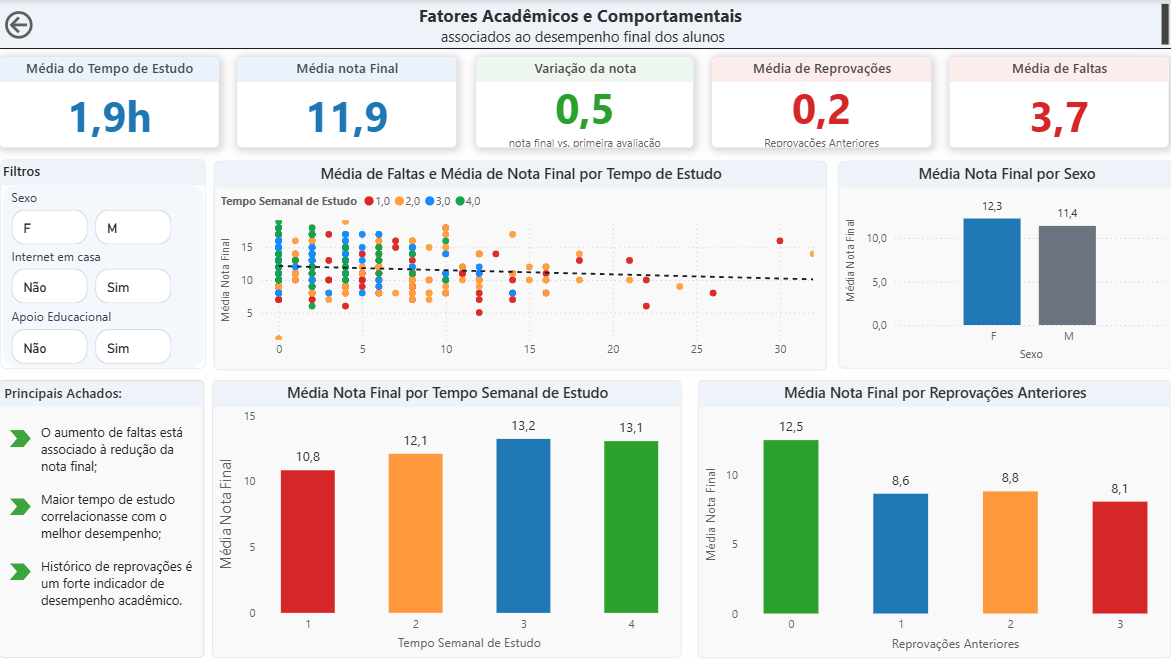

The page's visual inventory and layout, read from the dashboard file:
{"tool":"powerbi","page":{"name":"Fatores Acadêmicos e Comportamentais","canvas":[1280,720],"ordinal":1},"visuals":[{"type":"textbox","box":[0,0,1279.3,55],"z":0},{"type":"scatterChart","title":"Média de Faltas e Média de Nota Final por Tempo de Estudo","fields":{"X":["educacao_analise.Média de Faltas"],"Y":["educacao_analise.Média Nota Final"],"Series":["educacao_analise.Tempo Semanal de Estudo"],"Category":["educacao_analise.Índice"]},"box":[234.4,176.2,668.1,228],"z":0,"group":"g1"},{"type":"actionButton","box":[1.7,8.3,100,40],"z":1000},{"type":"shape","title":"Filtros","box":[1.7,174.8,223.3,228.3],"z":1000,"group":"g4"},{"type":"shape","box":[10.8,470,23.3,18.3],"z":2000},{"type":"card","title":"Média nota Final","fields":{"Values":["educacao_analise.Média Nota Final"]},"box":[259.2,63.3,240,100],"z":3000,"group":"g3"},{"type":"shape","box":[10.8,544.2,23.3,18.3],"z":3000},{"type":"shape","box":[10.8,615,23.3,18.3],"z":4000},{"type":"card","title":"Média de Faltas","fields":{"Values":["educacao_analise.Média de Faltas"]},"box":[1035,63.3,240,100],"z":5000,"group":"g3"},{"type":"group","id":"g1","title":"Grupo 3","box":[1.7,174.8,1278.3,228.3],"z":5000},{"type":"card","title":"Média do Tempo de Estudo","fields":{"Values":["educacao_analise.Média de Tempo de Estudos"]},"box":[0,63.3,240,100],"z":6000,"group":"g3"},{"type":"group","id":"g2","title":"Grupo 4","box":[0,414.8,1276.5,303.1],"z":6000},{"type":"group","id":"g3","title":"Grupo 2","box":[0,63.3,1275,100],"z":7000},{"type":"card","title":"Média de Reprovações ","fields":{"Values":["educacao_analise.Média Reprovações"]},"box":[775.8,63.3,240,100],"z":7000,"group":"g3"},{"type":"clusteredColumnChart","fields":{"Y":["educacao_analise.Média Nota Final"],"Category":["educacao_analise.Tempo Semanal de Estudo"]},"box":[232.7,415.1,511.3,302.4],"z":8000,"group":"g2"},{"type":"clusteredColumnChart","fields":{"Category":["educacao_analise.Sexo"],"Y":["educacao_analise.Média Nota Final"]},"box":[913.6,176.2,365.7,226.4],"z":9000,"group":"g1"},{"type":"clusteredColumnChart","fields":{"Category":["educacao_analise.Reprovações Anteriores"],"Y":["educacao_analise.Média Nota Final"]},"box":[760.8,414.8,515.7,303.1],"z":10000,"group":"g2"},{"type":"textbox","title":"Principais Achados:","box":[0,415.1,223.2,302.4],"z":11000,"group":"g2"},{"type":"card","title":"Variação da nota","fields":{"Values":["educacao_analise.Evolução Média"]},"box":[518.3,63.3,238.3,100],"z":12000,"group":"g3"},{"type":"advancedSlicerVisual","fields":{"Values":["educacao_analise.Sexo"]},"box":[11.7,204.1,178.3,65],"z":12000,"group":"g4"},{"type":"group","id":"g4","title":"Grupo 1","box":[1.7,174.8,223.3,228.3],"z":16000,"group":"g1"},{"type":"advancedSlicerVisual","fields":{"Values":["educacao_analise.Acesso à Internet em Casa"]},"box":[11.7,269.1,178.3,65],"z":16000,"group":"g4"},{"type":"advancedSlicerVisual","fields":{"Values":["educacao_analise.Apoio Educacional da Escola"]},"box":[11.7,334.1,178.3,65],"z":17000,"group":"g4"}]}

Visuals, with their boxes in screenshot pixels (x1, y1, x2, y2), scaled from the page's 1280x720 canvas onto the 1171x659 screenshot:
textbox: 0 0 1170 50
"Média de Faltas e Média de Nota Final por Tempo de Estudo" scatterChart: 214 161 826 370
actionButton: 2 8 93 44
"Filtros" shape: 2 160 206 369
shape: 10 430 31 447
"Média nota Final" card: 237 58 457 149
shape: 10 498 31 515
shape: 10 563 31 580
"Média de Faltas" card: 947 58 1166 149
"Grupo 3" group: 2 160 1170 369
"Média do Tempo de Estudo" card: 0 58 220 149
"Grupo 4" group: 0 380 1168 657
"Grupo 2" group: 0 58 1166 149
"Média de Reprovações " card: 710 58 929 149
clusteredColumnChart - educacao_analise.Média Nota Final x educacao_analise.Tempo Semanal de Estudo: 213 380 681 657
clusteredColumnChart - educacao_analise.Sexo x educacao_analise.Média Nota Final: 836 161 1170 368
clusteredColumnChart - educacao_analise.Reprovações Anteriores x educacao_analise.Média Nota Final: 696 380 1168 657
"Principais Achados:" textbox: 0 380 204 657
"Variação da nota" card: 474 58 692 149
advancedSlicerVisual - educacao_analise.Sexo: 11 187 174 246
"Grupo 1" group: 2 160 206 369
advancedSlicerVisual - educacao_analise.Acesso à Internet em Casa: 11 246 174 306
advancedSlicerVisual - educacao_analise.Apoio Educacional da Escola: 11 306 174 365
